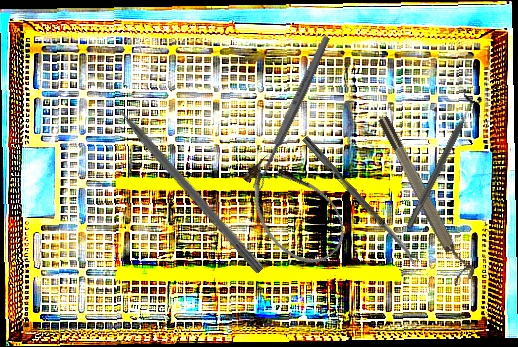Cannula: (227, 141, 359, 279)
Fixation Ring: (375, 110, 478, 287), (398, 87, 485, 234)
Pusher: (100, 86, 266, 275)
Surgical Spoon: (300, 135, 421, 267), (251, 34, 332, 192)
